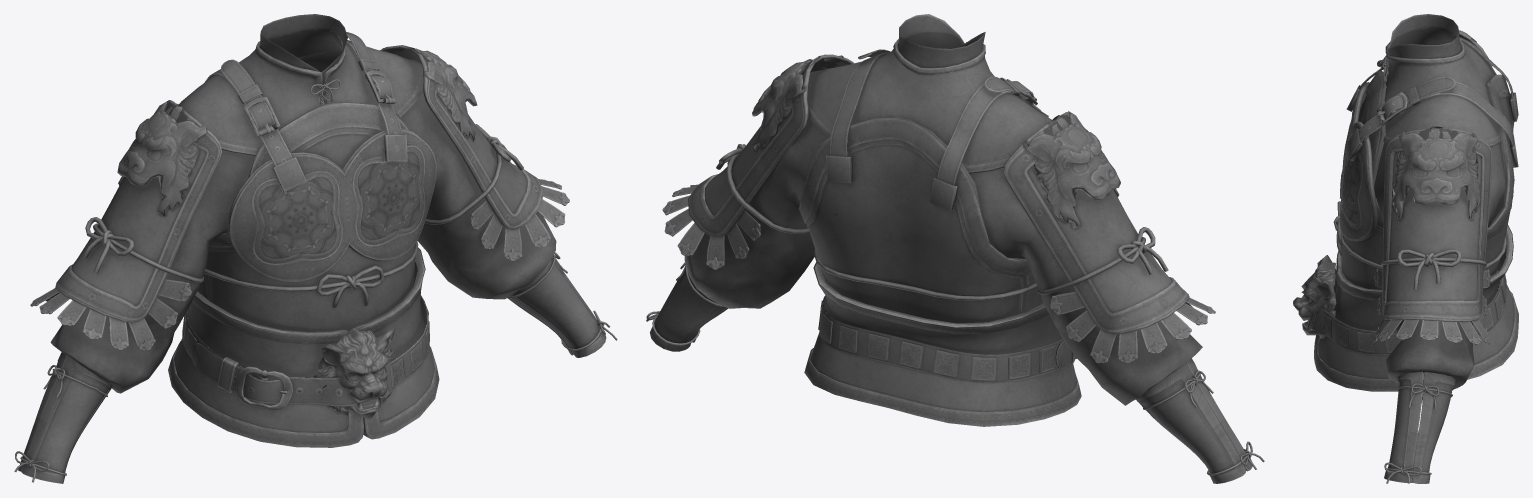
File: procedural_armor_2.0_test_2.glb
The picture shows the model from 3 angles, left to right: view 1: azimuth 30°, elevation 25°; view 2: azimuth 150°, elevation 25°; view 3: azimuth 270°, elevation 25°; orthographic projection. The views are drawn at different scales.
Parts seen in each view (by area): view 1: shirt_low, chest_low, Waist_cushion1_low, Shoulder3_low, strap_low, Body_piece_low, Neck_low, Arm_low, relief_low, decop_low, foohead_low, collar_low (+2 smaller); view 2: Body_piece_low, shirt_low, Shoulder3_low, Waist_cushion1_low, strap_low, Neck_low, Arm_low, relief_low, decop_low, collar_low, knot_low; view 3: Shoulder3_low, strap_low, Waist_cushion1_low, Neck_low, relief_low, Body_piece_low, shirt_low, Arm_low, chest_low, collar_low, decop_low, foohead_low (+1 smaller).
Part boxes in pixels (x1,y1,x2,y2): shirt_low: [50, 51, 556, 393]; chest_low: [228, 128, 436, 281]; Waist_cushion1_low: [168, 247, 439, 447]; Shoulder3_low: [55, 45, 543, 322]; strap_low: [82, 32, 523, 406]; Body_piece_low: [190, 103, 416, 331]; Neck_low: [179, 29, 423, 155]; Arm_low: [18, 256, 606, 483]; relief_low: [117, 46, 477, 216]; decop_low: [30, 179, 569, 350]; foohead_low: [313, 328, 395, 420]; collar_low: [259, 14, 347, 80]; Body_piece_low: [799, 99, 1043, 338]; shirt_low: [684, 117, 1202, 405]; Shoulder3_low: [688, 54, 1189, 333]; Waist_cushion1_low: [804, 262, 1081, 426]; strap_low: [716, 49, 1168, 382]; Neck_low: [807, 32, 1051, 173]; Arm_low: [650, 267, 1252, 483]; relief_low: [752, 54, 1120, 228]; decop_low: [662, 184, 1215, 363]; collar_low: [897, 14, 985, 68]; knot_low: [646, 262, 1264, 475]; Shoulder3_low: [1382, 31, 1492, 321]; strap_low: [1309, 37, 1518, 355]; Waist_cushion1_low: [1314, 225, 1518, 391]; Neck_low: [1383, 27, 1501, 146]; relief_low: [1391, 30, 1480, 219]; Body_piece_low: [1341, 69, 1514, 289]; shirt_low: [1374, 42, 1505, 389]; Arm_low: [1384, 371, 1455, 483]; chest_low: [1339, 82, 1377, 241]; collar_low: [1387, 14, 1461, 58]; decop_low: [1372, 269, 1490, 345]; foohead_low: [1293, 255, 1336, 338].
Bounding box in the file's own units: 0.9731 × 0.5954 × 0.3576.
1 material, 1 textured.
